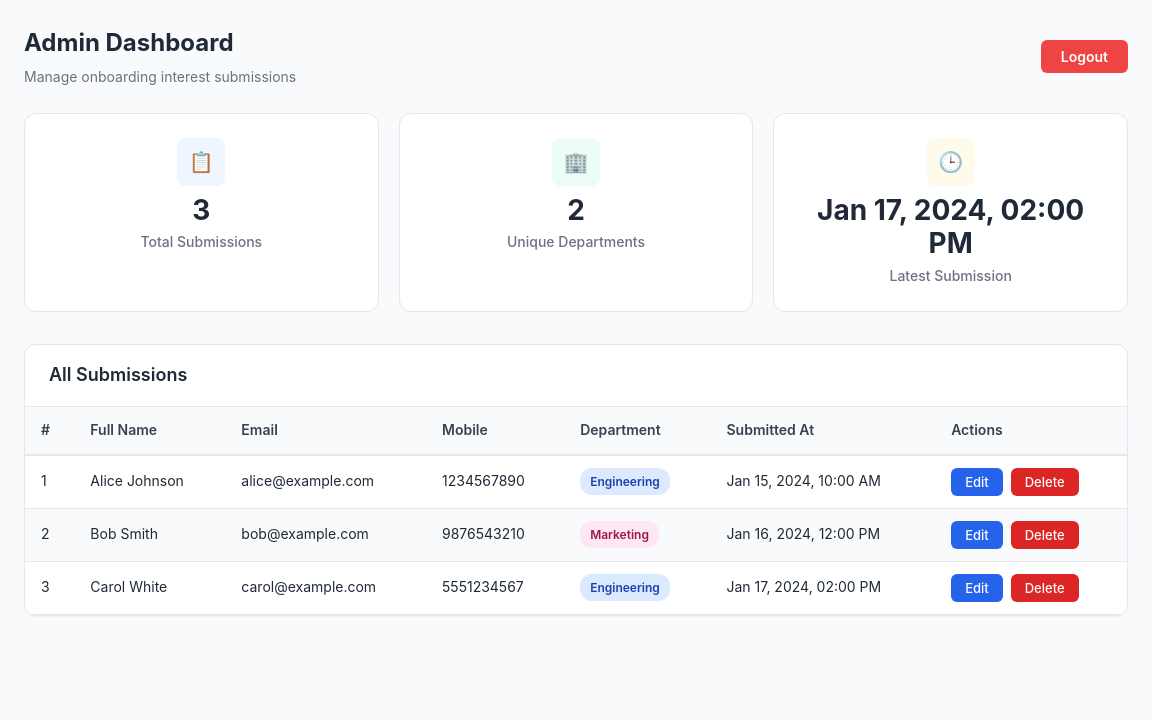
it: AdminDashboard › edit functionality › closes edit modal when cancel is clicked
What coordinates should you click on to do the following:
click the button "Edit" in the row of "Alice Johnson"
I would click on:
 (977, 482)
Its box is [951,468,1003,496].
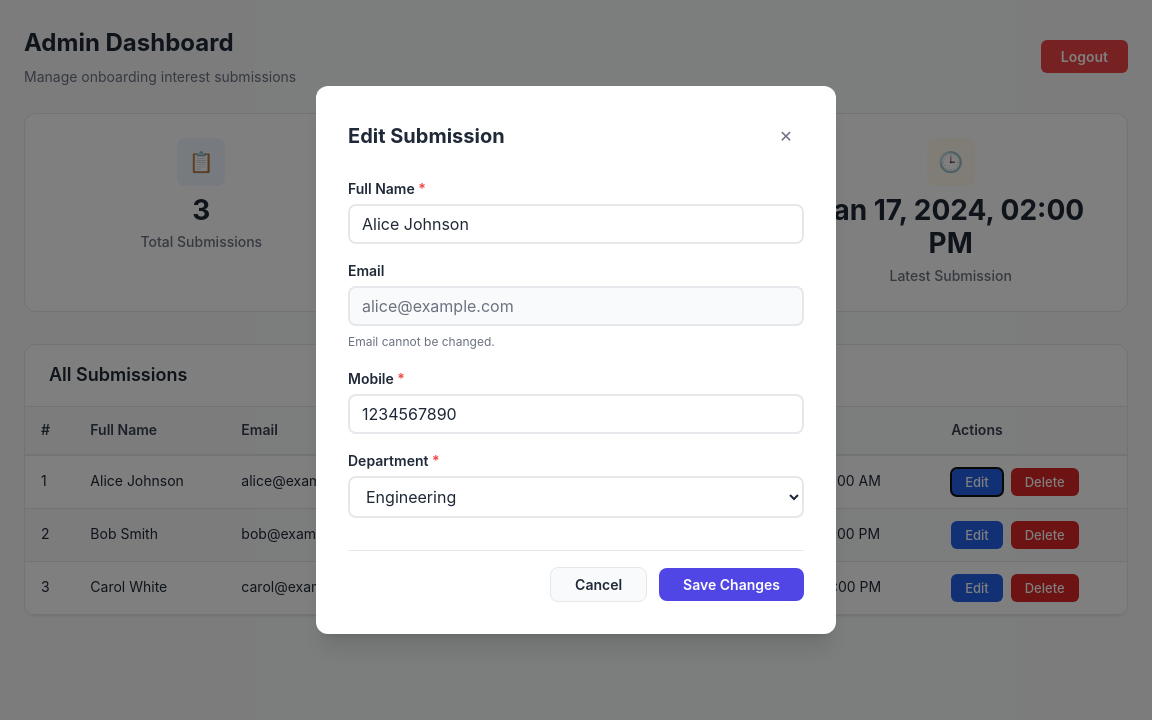
Result: the heading "Edit Submission" is shown at [348,120,505,152]
What coordinates should you click on to do the following:
click the button "Cancel"
I would click on:
 (599, 585)
Its box is [550,567,647,602].
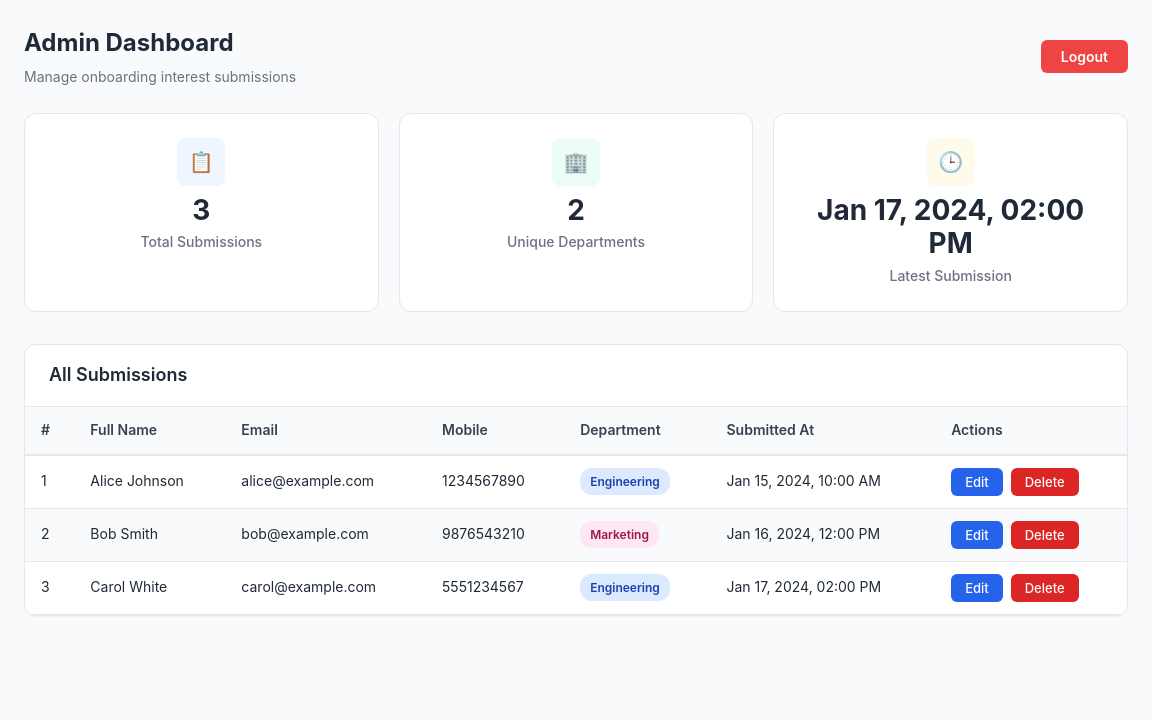
Result: the heading "Edit Submission" is gone
